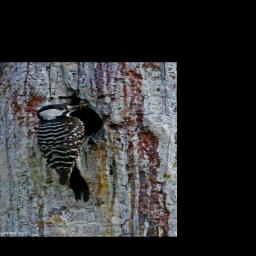Woodpecker: (31, 101, 94, 202)
